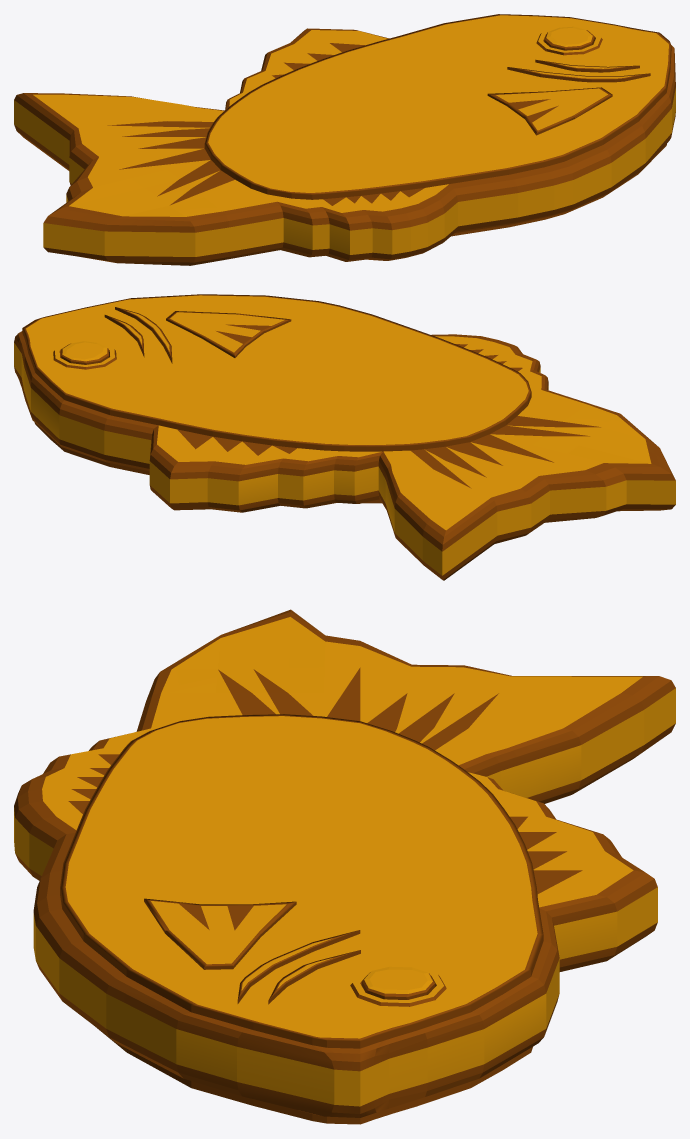
Rendered from Taiyaki.fbx.
3 renders of one model, top to bottom at view 1: azimuth 30°, elevation 25°; view 2: azimuth 150°, elevation 25°; view 3: azimuth 270°, elevation 25°, orthographic. The views are drawn at different scales.
Visible parts, largest first — view 1: sm_taiyaki; view 2: sm_taiyaki; view 3: sm_taiyaki.
Boxes of the visible parts, x1,y1,x2,y2 form: sm_taiyaki: (14, 14, 675, 265); sm_taiyaki: (14, 294, 675, 580); sm_taiyaki: (14, 609, 675, 1124).
Size of the model in its own units: 75.53 by 7.57 by 46.28.
